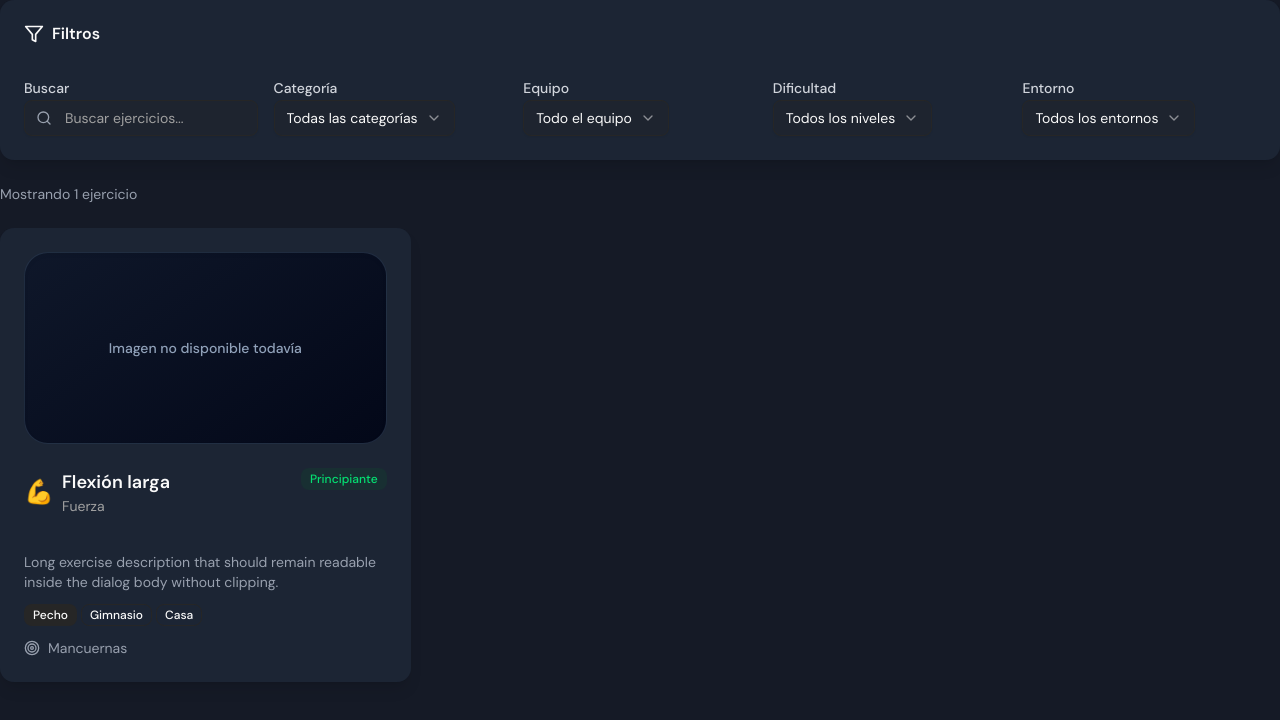
Test case: modal scrolling, close behavior, and workout localization › uses a bounded scroll body and visible Close button in exercise detail dialogs
Click the text "Flexión larga". click: (116, 482)
box: [62,468,170,496]
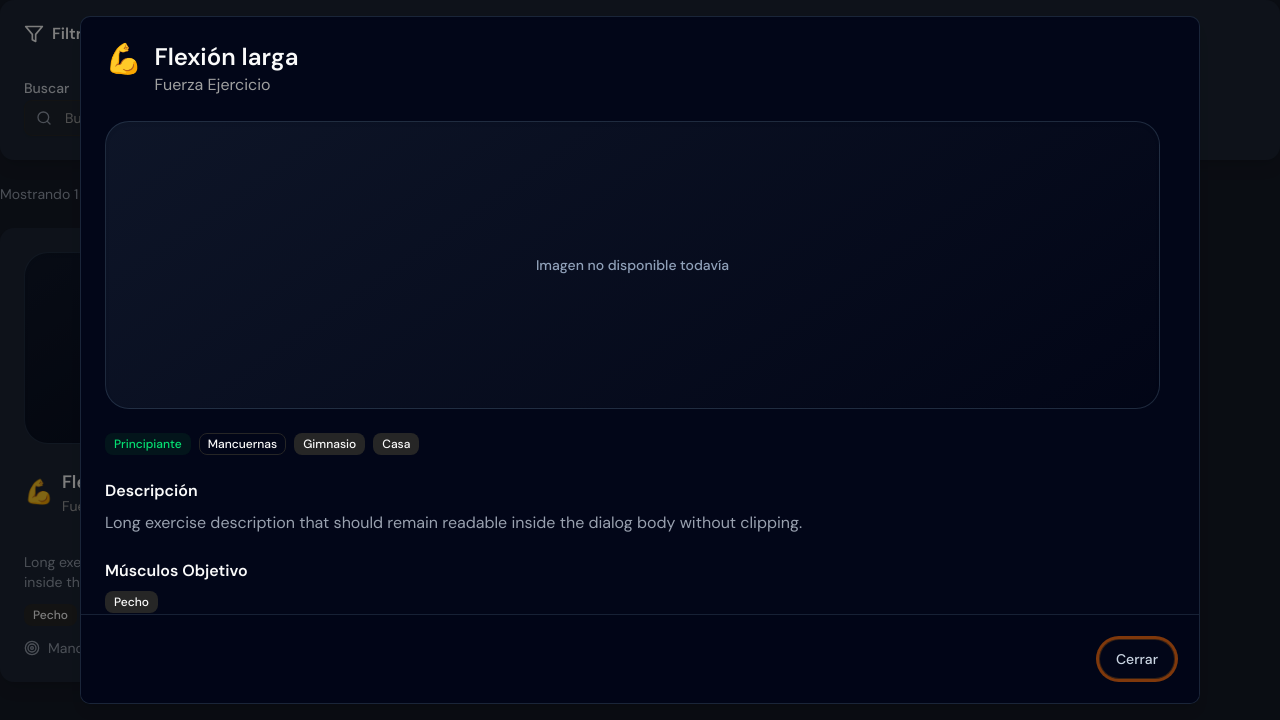
Expected: the button "Cerrar" is shown, [1099,639,1175,679]
